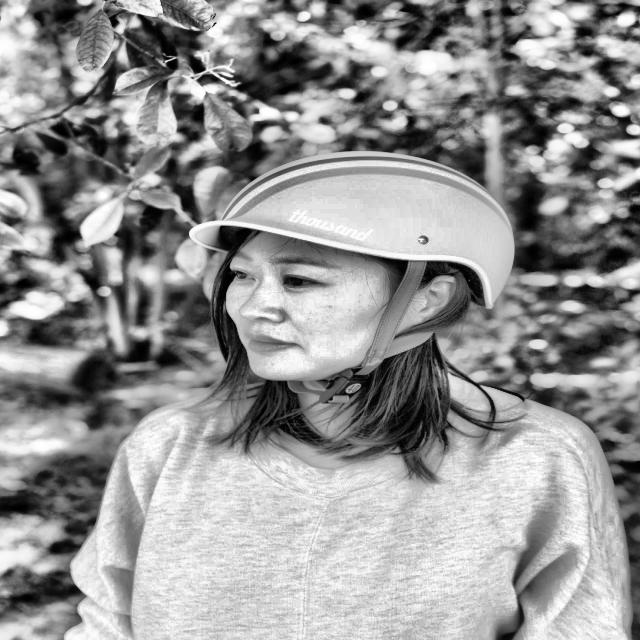Helmet: (176, 149, 547, 423)
